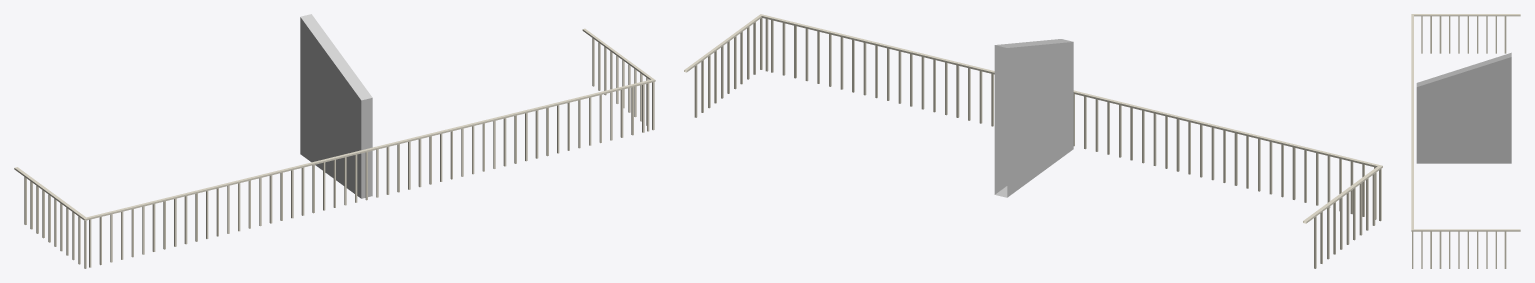
Rendered from The upper part is for a closed balcony.fbx.
3 renders of one model, left to right at view 1: azimuth 30°, elevation 25°; view 2: azimuth 150°, elevation 25°; view 3: azimuth 270°, elevation 25°, orthographic. The views are drawn at different scales.
Parts seen in each view (by area): view 1: Cube.392; view 2: Cube.392; view 3: Cube.392.
Part boxes in pixels (<box>): Cube.392: <box>14,14,655,268</box>; Cube.392: <box>684,14,1382,268</box>; Cube.392: <box>1411,14,1520,268</box>.
Bounding box in the file's own units: 2459 × 566 × 525.
